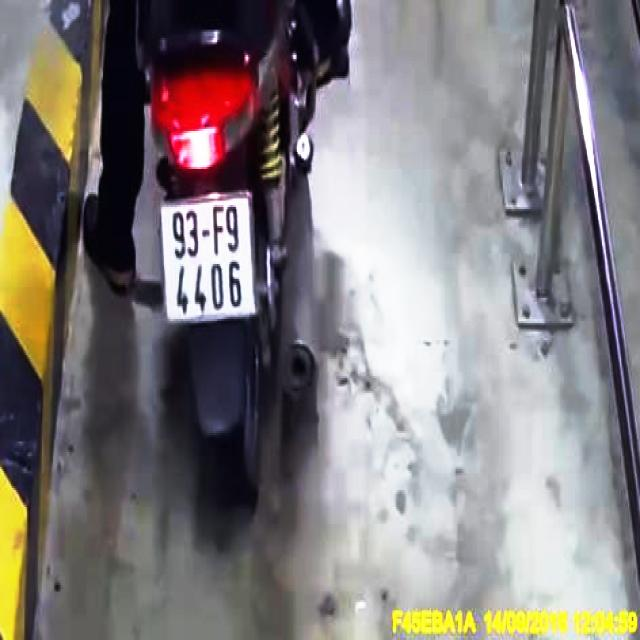license_plate: (163, 195, 254, 319)
